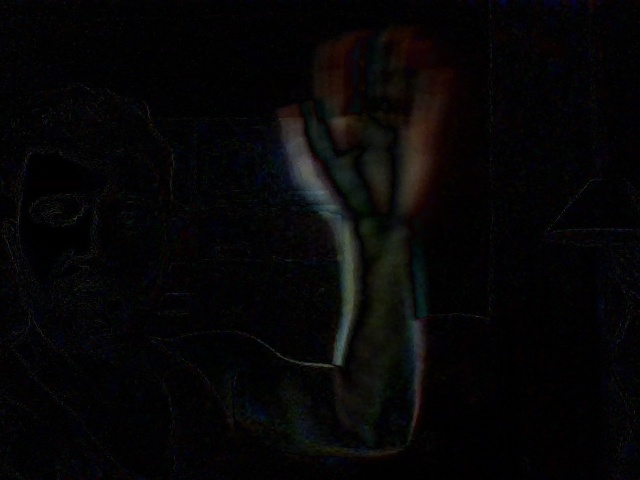arm_fo: (269, 36, 464, 388)
